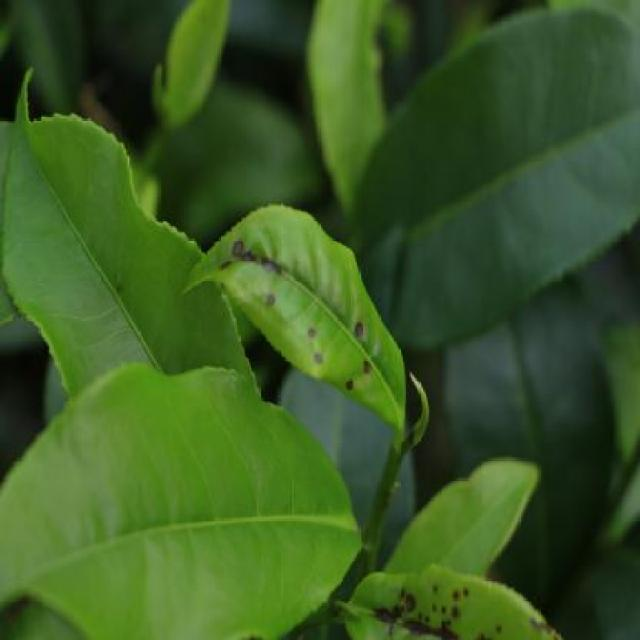Tea Mosquito bug infested leaf: (186, 180, 431, 423), (348, 546, 570, 640)
